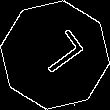L_SW: (26, 27, 84, 83)
